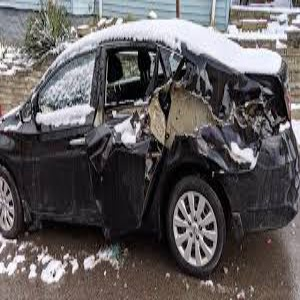door: (32, 141, 149, 226)
